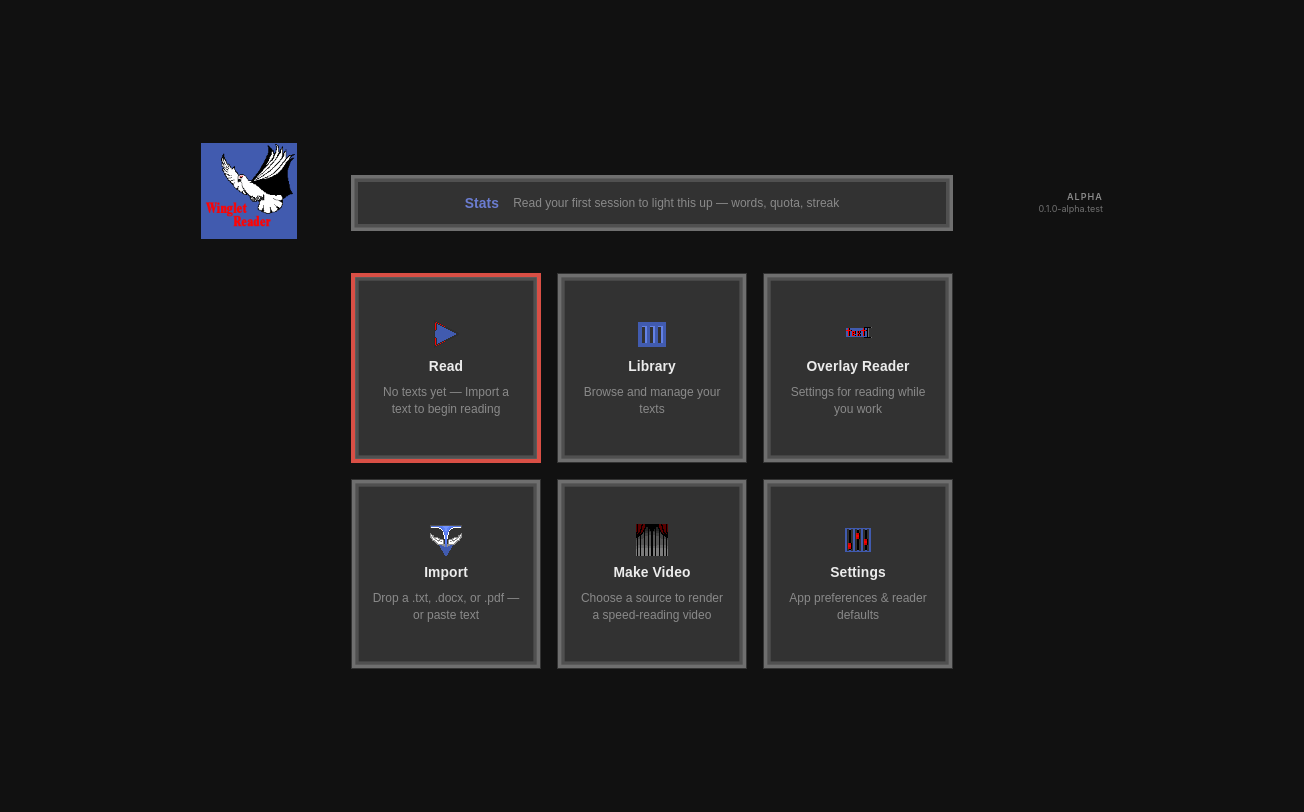
Test: Read while working onboarding › hub Import tile opens the Import view
Step 1. Click the button "Import" → (446, 574), box [351, 479, 541, 669]
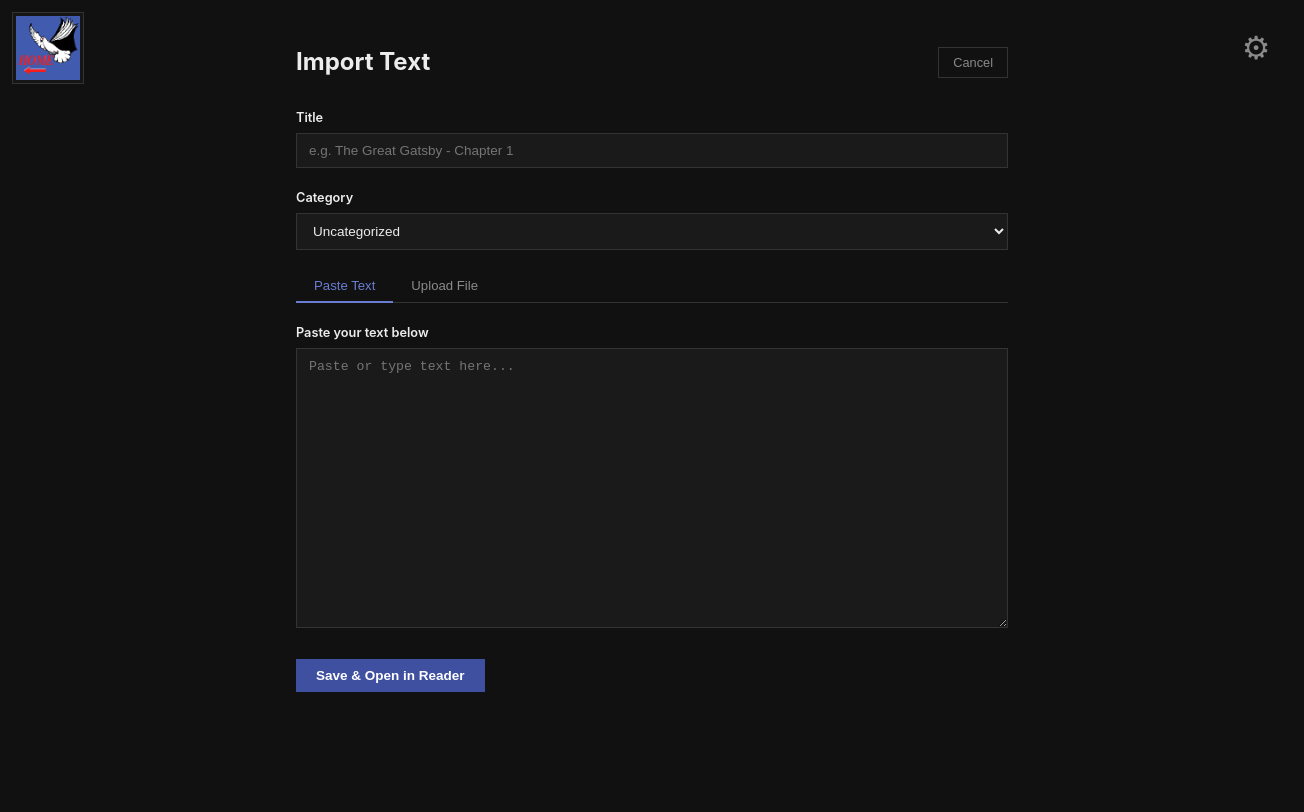
Now the heading "Import Text" is shown, box [296, 44, 430, 80]
